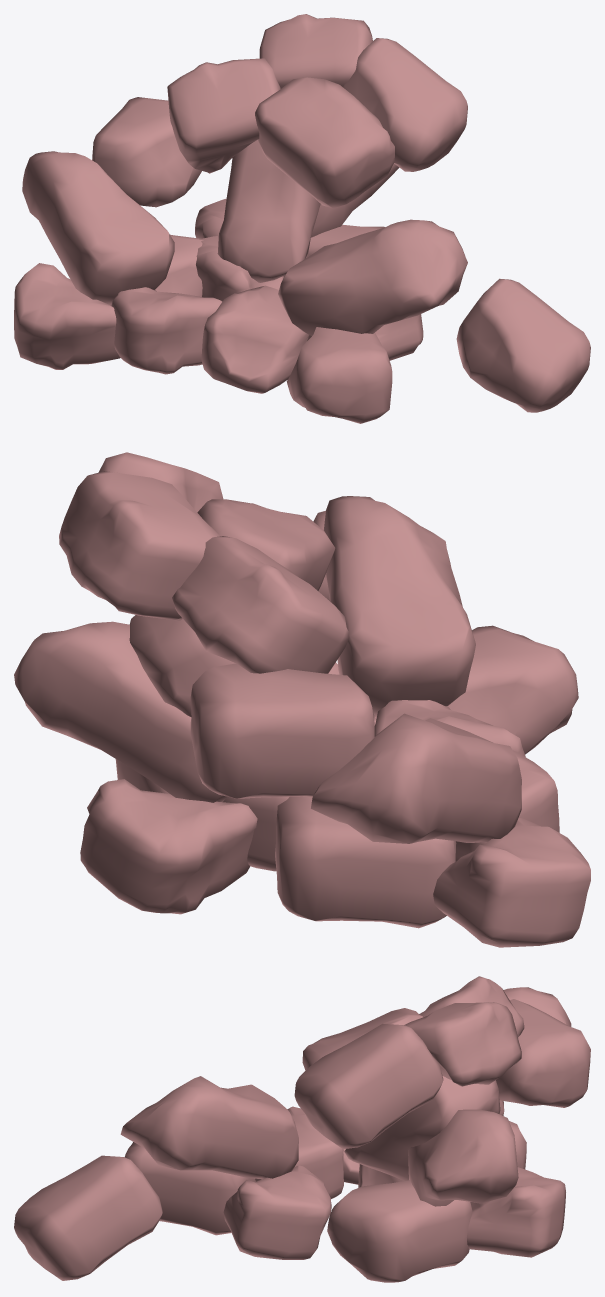
Rendered from Floor_Rock_Pile_02A_Lod0.fbx.
The picture shows the model from 3 angles, top to bottom: view 1: azimuth 30°, elevation 25°; view 2: azimuth 150°, elevation 25°; view 3: azimuth 270°, elevation 25°; orthographic projection. The views are drawn at different scales.
Visible parts, largest first — view 1: Floor_Rock_Pile_02A_Lod0; view 2: Floor_Rock_Pile_02A_Lod0; view 3: Floor_Rock_Pile_02A_Lod0.
Boxes of the visible parts, <box> form: Floor_Rock_Pile_02A_Lod0: <box>14,14,590,423</box>; Floor_Rock_Pile_02A_Lod0: <box>14,452,590,947</box>; Floor_Rock_Pile_02A_Lod0: <box>14,976,590,1282</box>.
Size of the model in its own units: 378 by 241 by 463.
